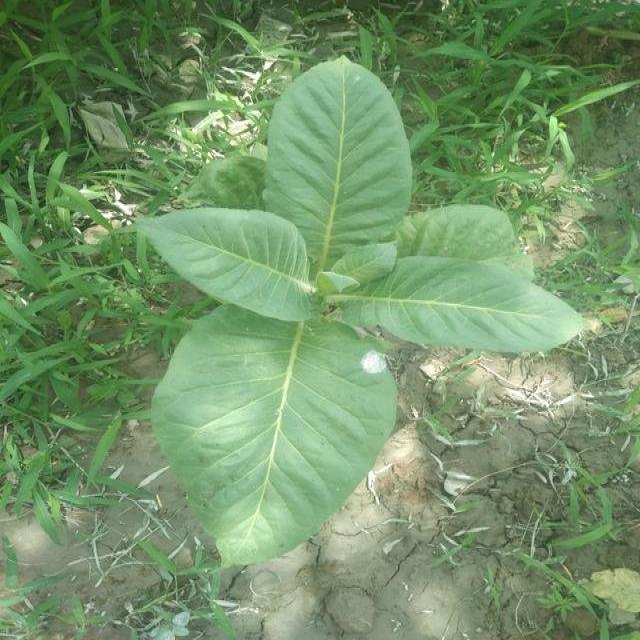crop: (139, 68, 582, 552)
